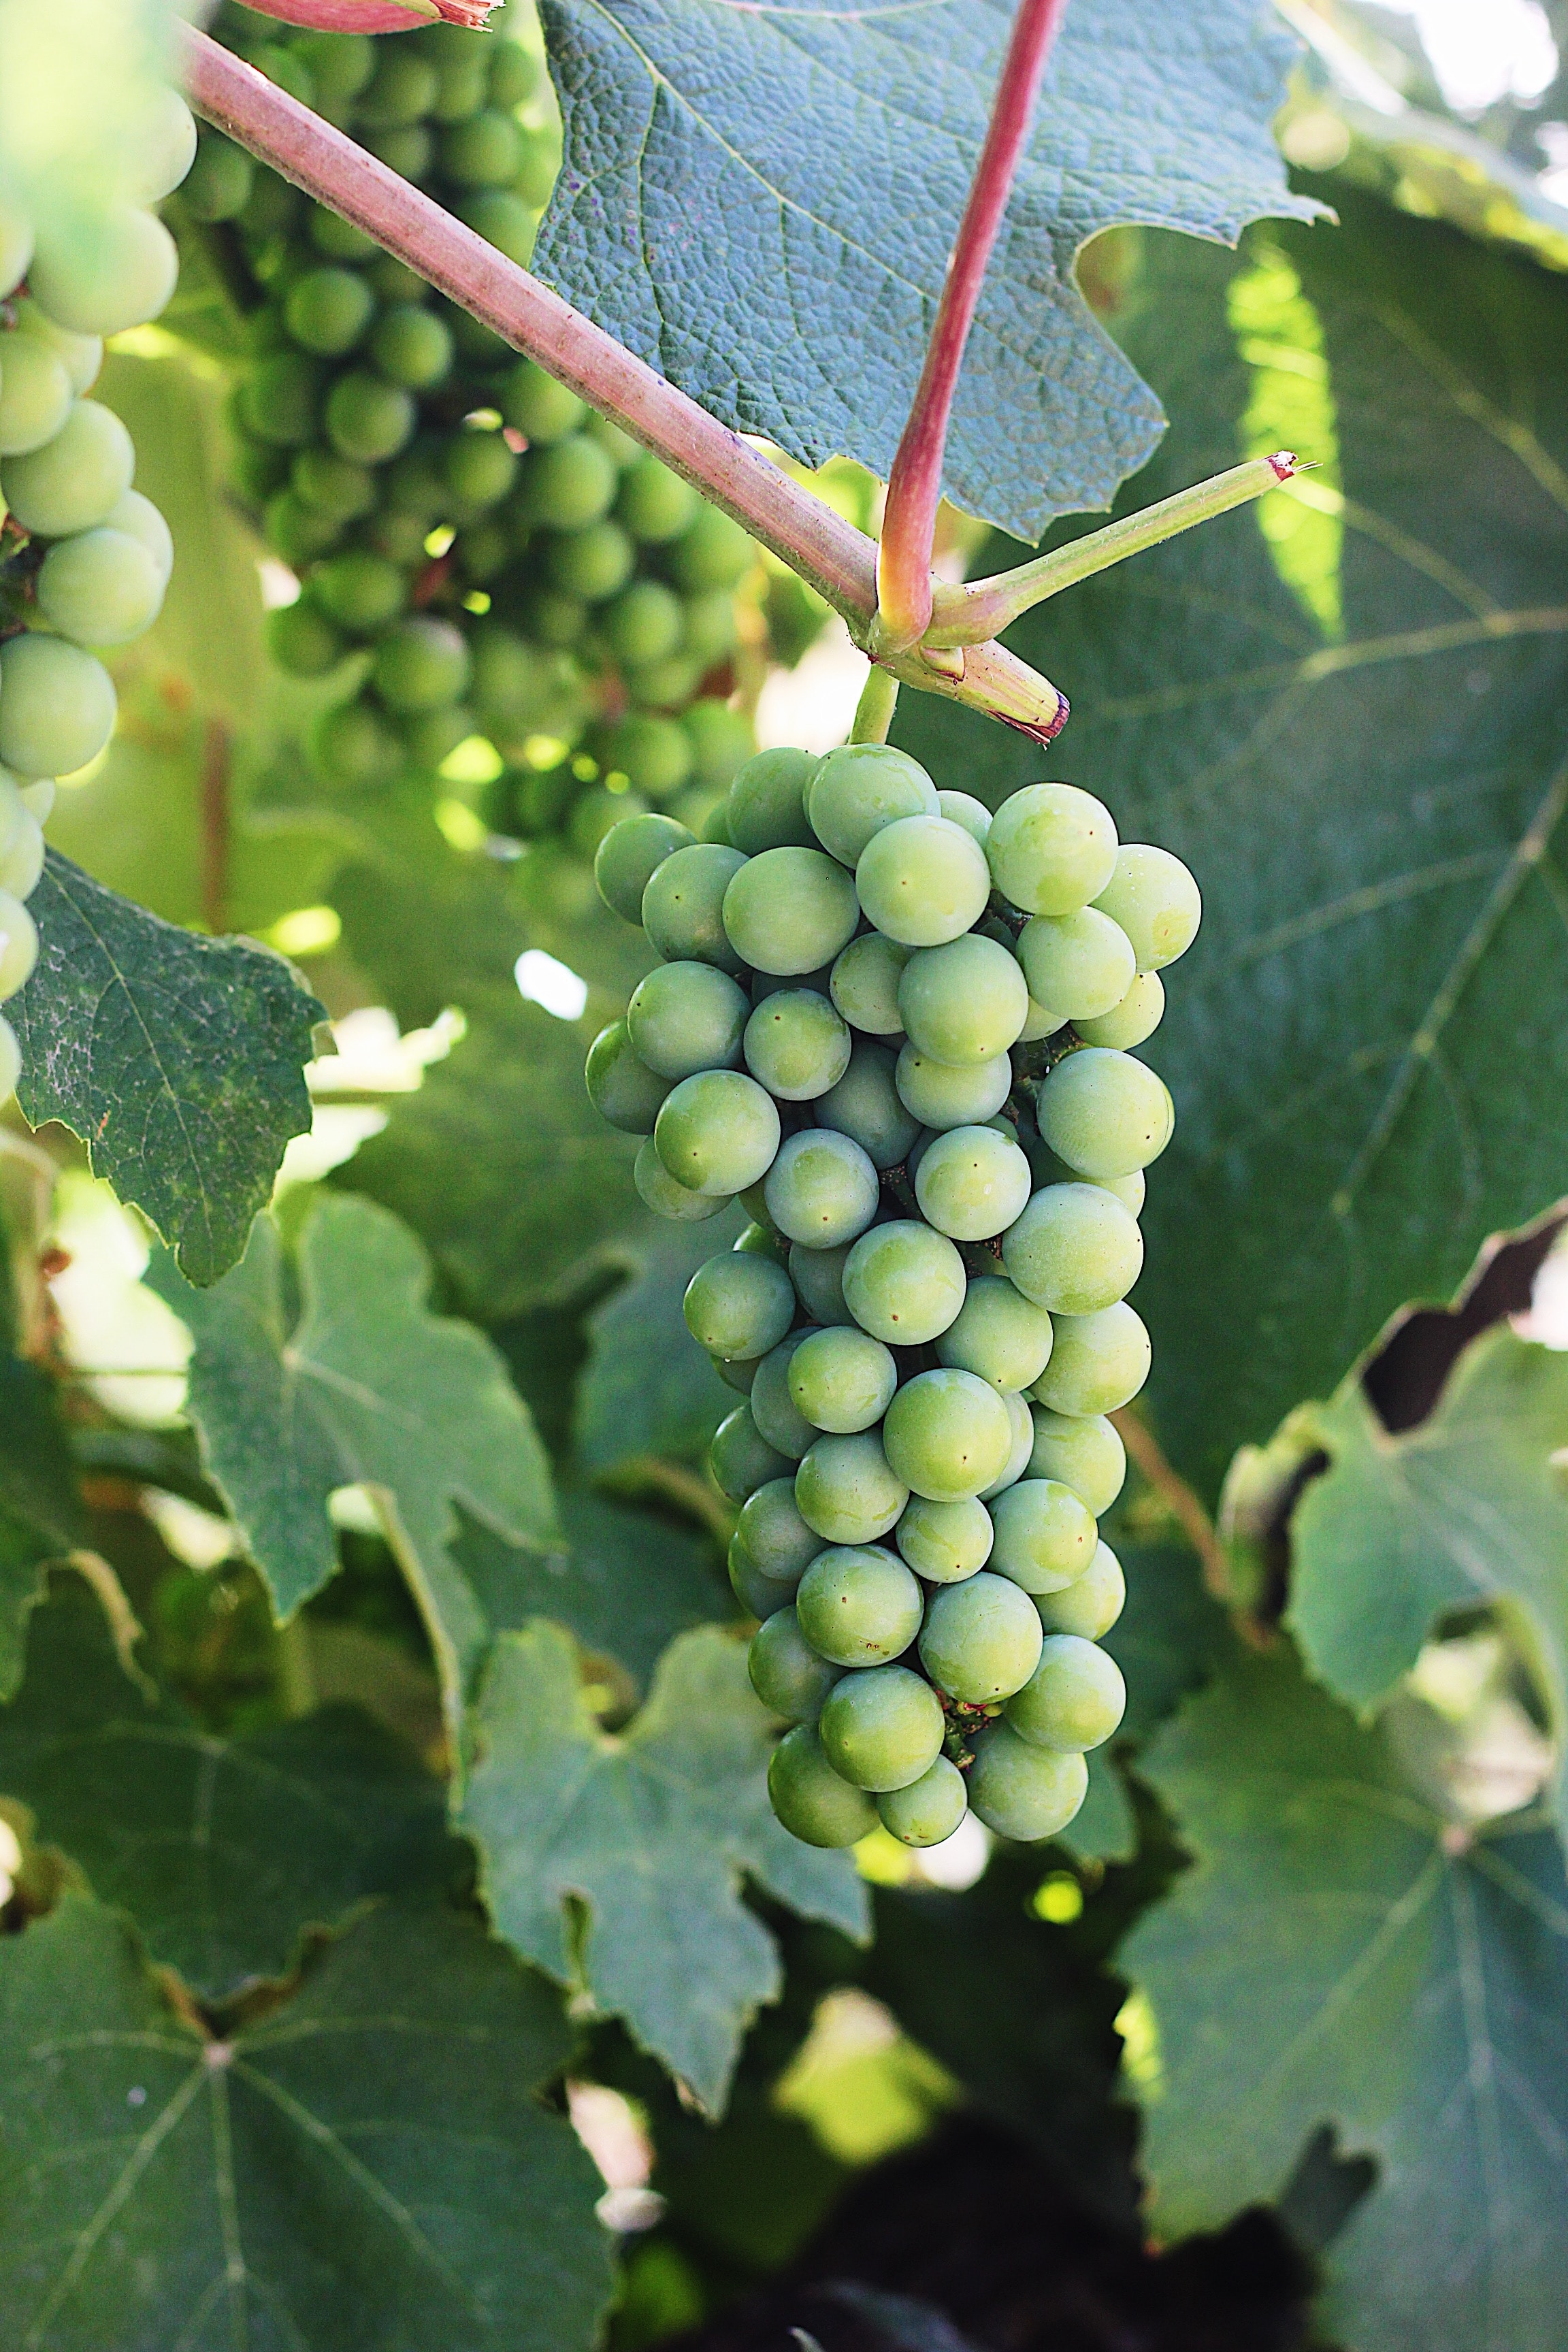Healthy: (32, 186, 203, 329), (660, 1251, 835, 1381), (985, 772, 1141, 910), (1043, 1031, 1180, 1178), (1099, 845, 1250, 977), (723, 837, 865, 973), (32, 501, 149, 663), (0, 621, 110, 791), (5, 399, 142, 527), (870, 824, 985, 961), (800, 725, 935, 840), (768, 1123, 880, 1255), (877, 1043, 1033, 1136), (1029, 1197, 1152, 1314), (761, 1736, 870, 1864), (710, 1496, 826, 1615), (644, 845, 756, 961), (908, 1134, 1043, 1225), (663, 1066, 765, 1187), (1017, 915, 1125, 1024), (726, 1612, 831, 1720), (915, 942, 1036, 1034), (788, 1321, 889, 1430), (628, 977, 746, 1069), (595, 791, 686, 906), (1046, 1306, 1148, 1403), (749, 987, 831, 1104), (618, 1136, 730, 1218), (719, 744, 812, 842), (579, 1022, 656, 1131), (0, 334, 75, 441), (691, 1426, 788, 1491), (0, 782, 44, 900), (0, 926, 56, 1012), (842, 954, 908, 1022)
Unhealthy: (800, 1554, 940, 1670), (819, 1673, 955, 1790), (908, 1372, 1036, 1496), (935, 1573, 1040, 1713), (791, 1423, 903, 1551), (842, 1218, 959, 1330), (943, 1279, 1059, 1391), (1025, 1638, 1141, 1743), (1040, 1407, 1136, 1523), (992, 1732, 1094, 1837), (1043, 1531, 1139, 1631), (893, 1487, 998, 1570), (1008, 1468, 1078, 1584), (882, 1761, 973, 1837)
